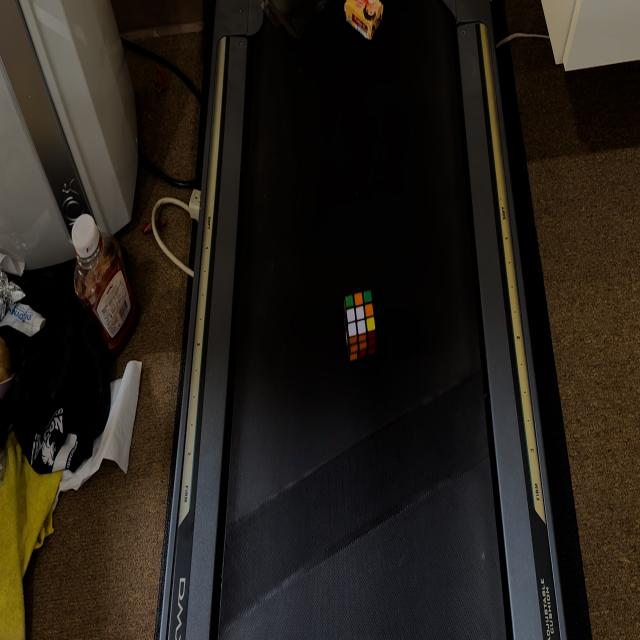Trash: (344, 287, 378, 366), (341, 0, 383, 40)
